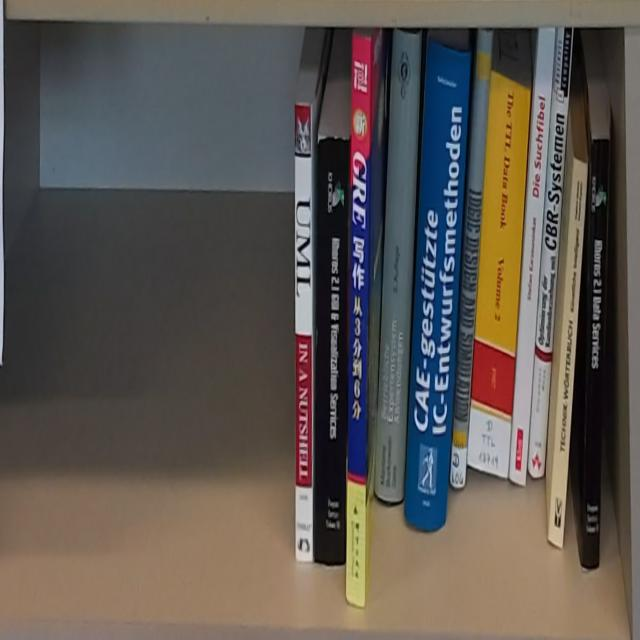Book Spine: (405, 34, 470, 534), (467, 69, 532, 482), (374, 30, 423, 503), (508, 26, 557, 489), (450, 26, 496, 490), (528, 26, 574, 479), (345, 34, 373, 607), (548, 160, 588, 550), (315, 138, 350, 566), (582, 139, 610, 569), (295, 102, 313, 564)
